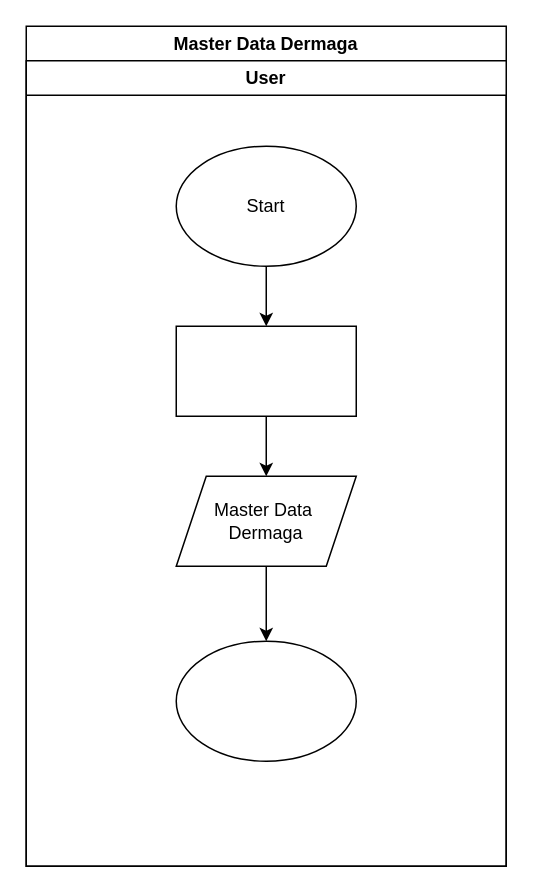
This 533x893 diagram has some shape labels left out. The centre of each missing label's shape, as x and y in pixels:
Create Master Data Dermaga: point (265, 370)
End: point (265, 700)
